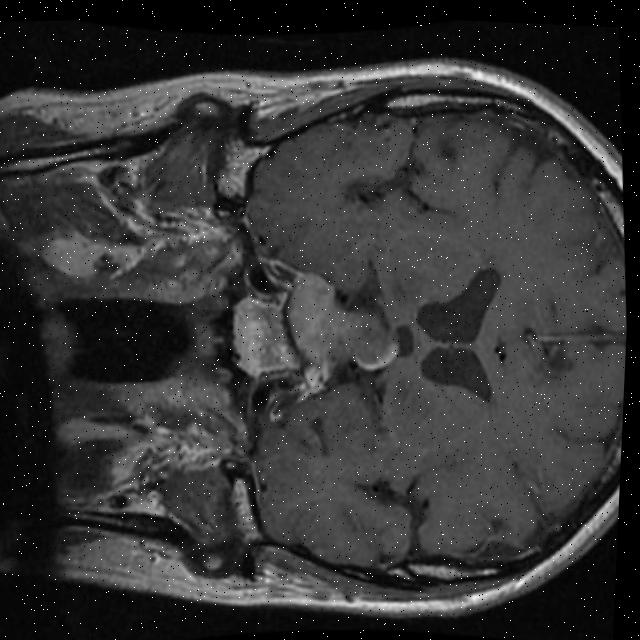Pituitary: (284, 268, 404, 378), (227, 291, 303, 380)
